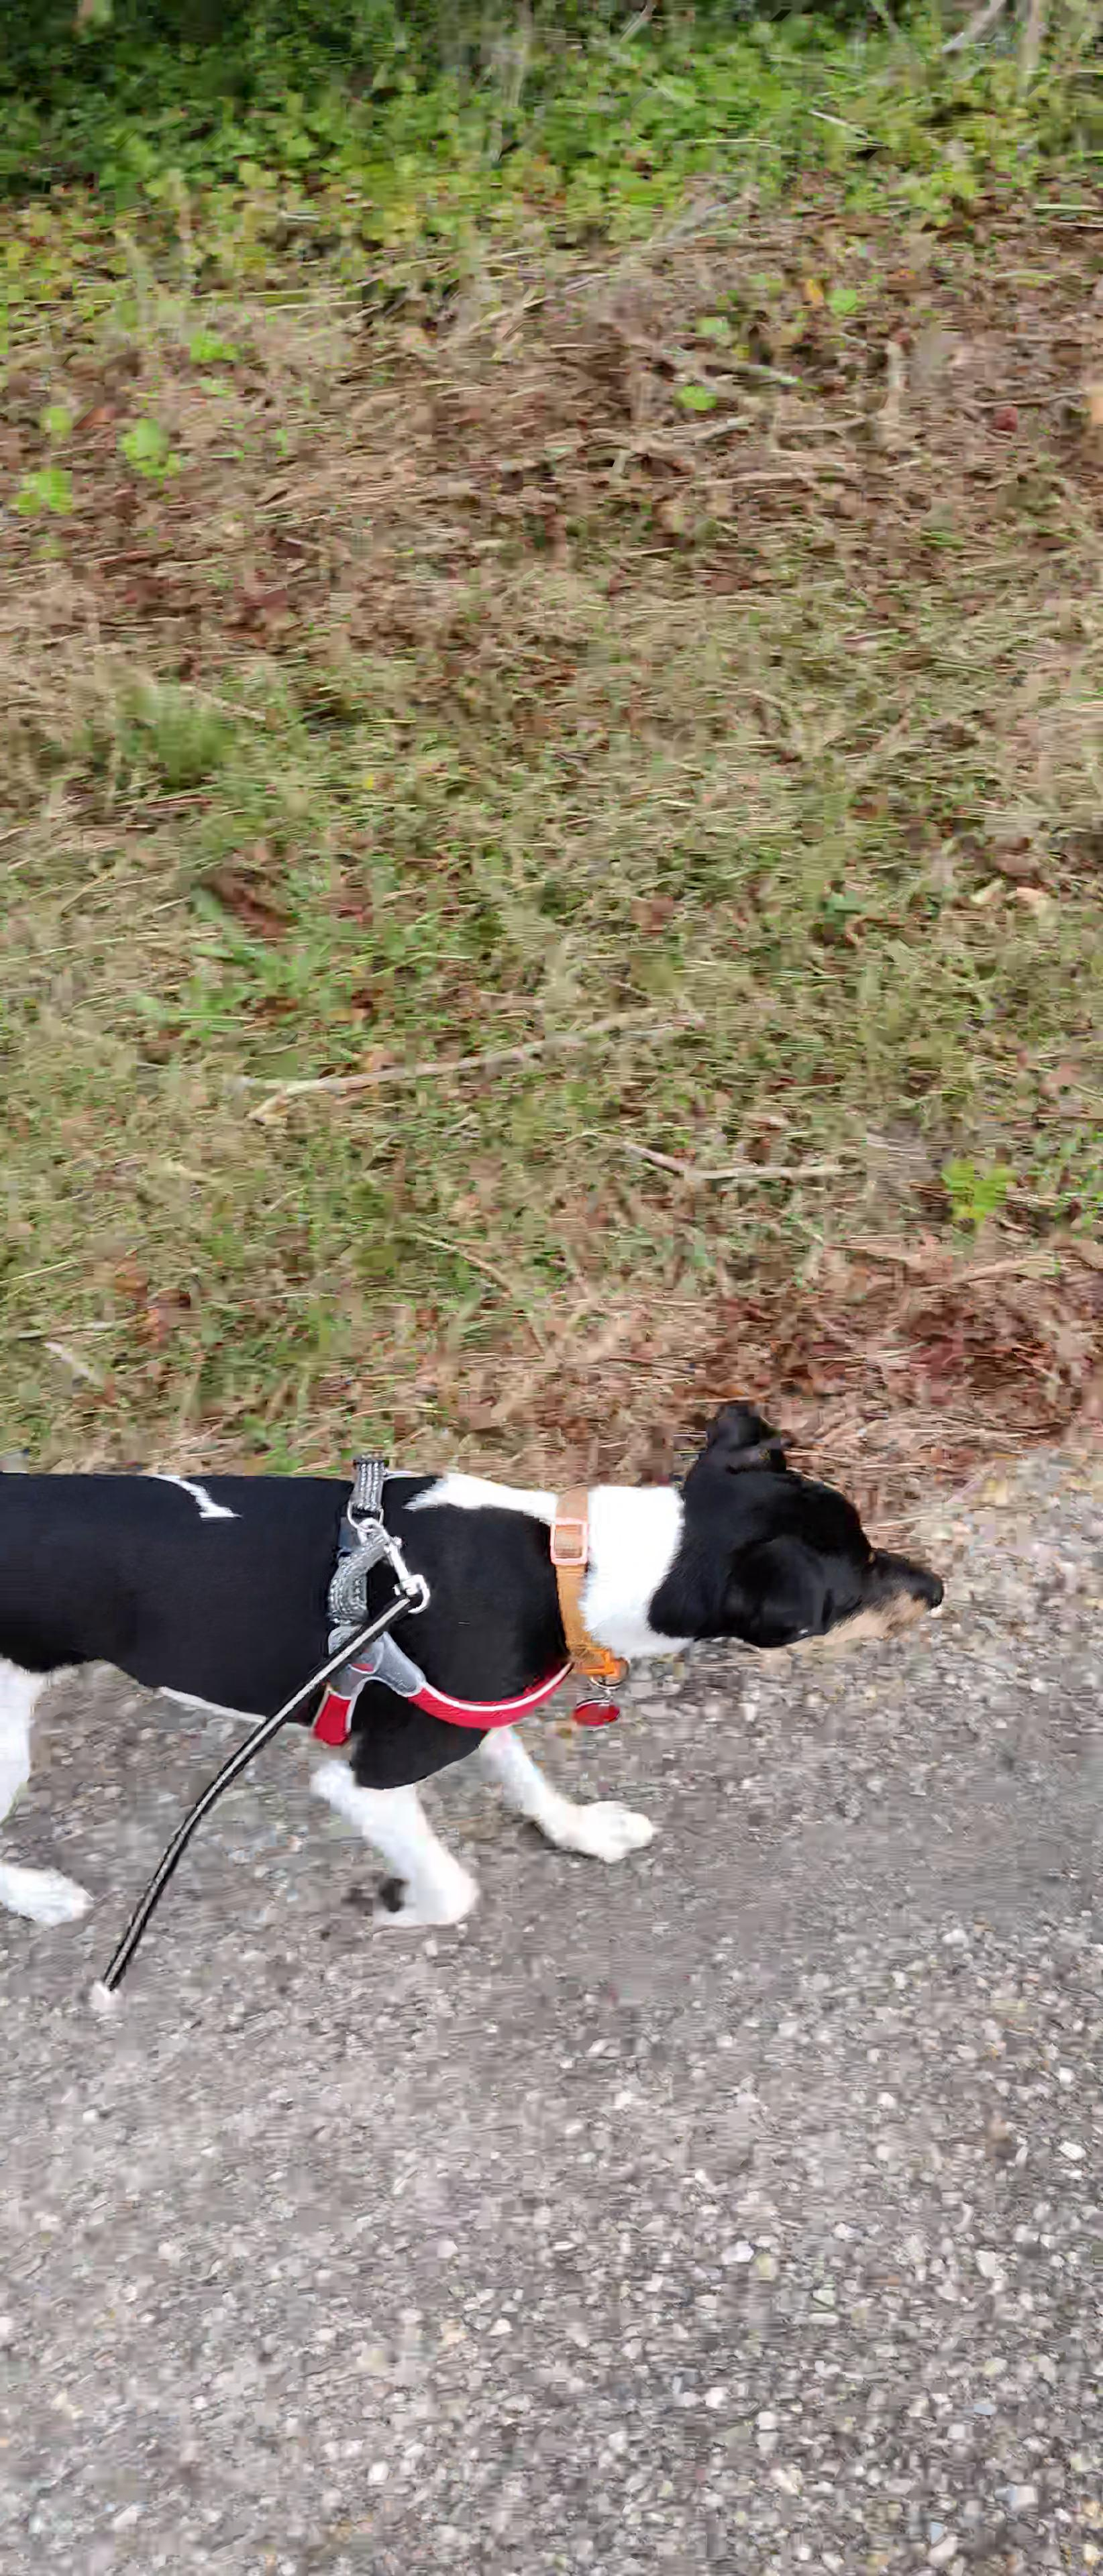Dog: (0, 1400, 958, 1950)
